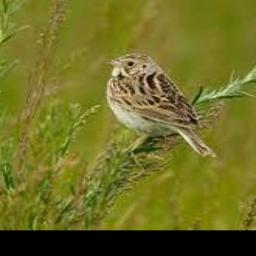Sparrow: (106, 53, 219, 159)
